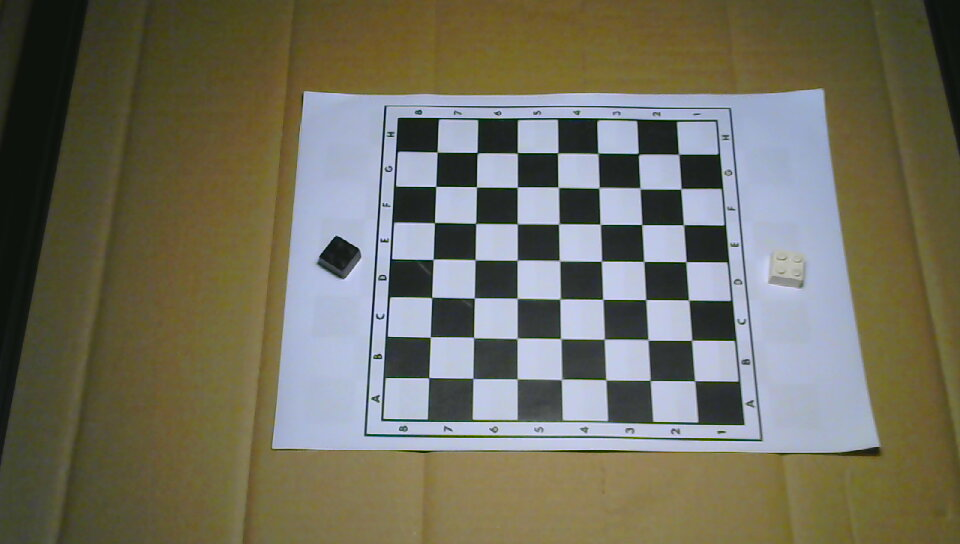bp: (316, 234, 361, 279)
wp: (768, 247, 807, 289)
